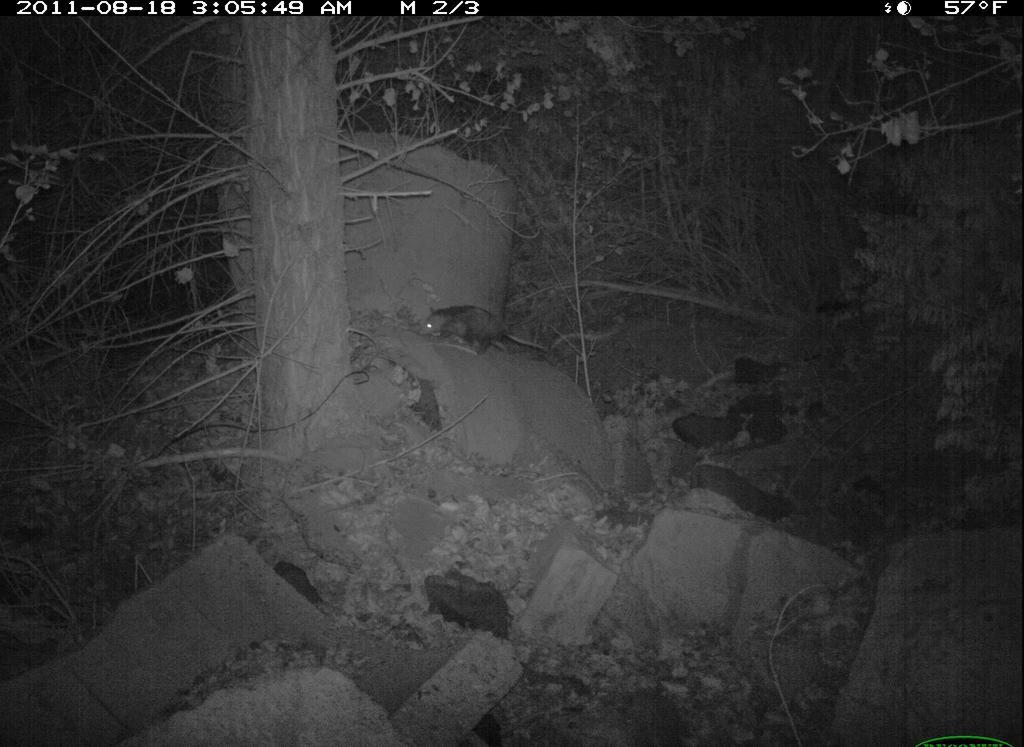opossum: (411, 294, 561, 372)
